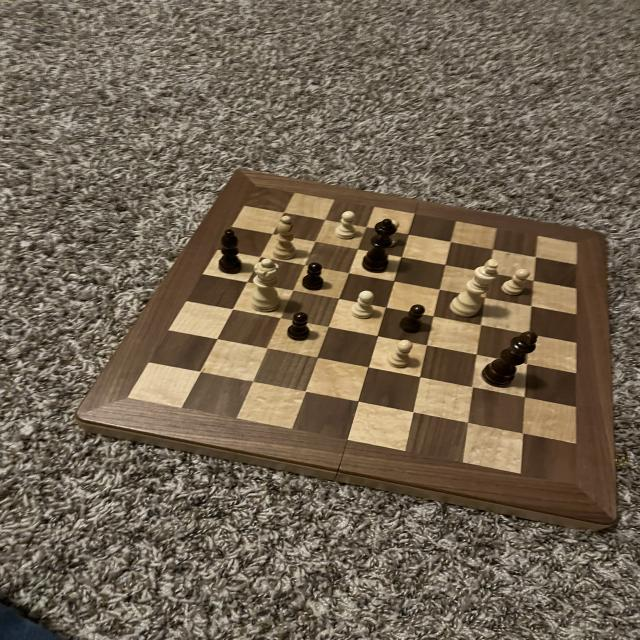bishop: (212, 226, 247, 277)
black-bishop: (477, 328, 542, 391)
black-knight: (298, 260, 329, 292), (399, 304, 428, 335), (286, 310, 313, 342)
black-pawn: (356, 217, 399, 273)
black-rook: (267, 212, 300, 264)
white-bishop: (446, 256, 504, 322)
white-knight: (499, 267, 538, 297), (374, 217, 406, 251), (348, 288, 377, 324), (332, 209, 360, 240), (388, 338, 416, 368)
white-pawn: (248, 258, 284, 315)
